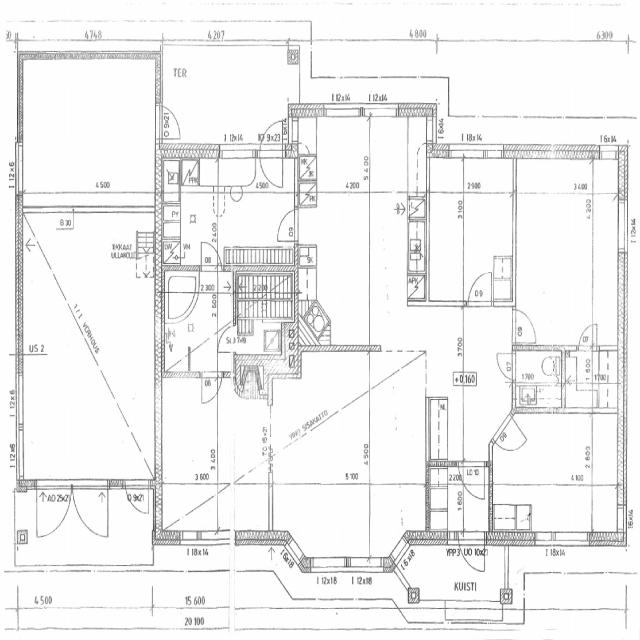door: (72, 480, 108, 540), (37, 480, 72, 540), (492, 414, 528, 466), (458, 530, 484, 582), (458, 461, 484, 503), (260, 145, 282, 192), (260, 112, 282, 159), (156, 105, 186, 139), (125, 480, 148, 522), (468, 268, 491, 306), (512, 309, 538, 342), (272, 209, 298, 240), (202, 372, 222, 407), (202, 236, 222, 271), (578, 319, 597, 350), (494, 354, 516, 379), (215, 326, 236, 352)
